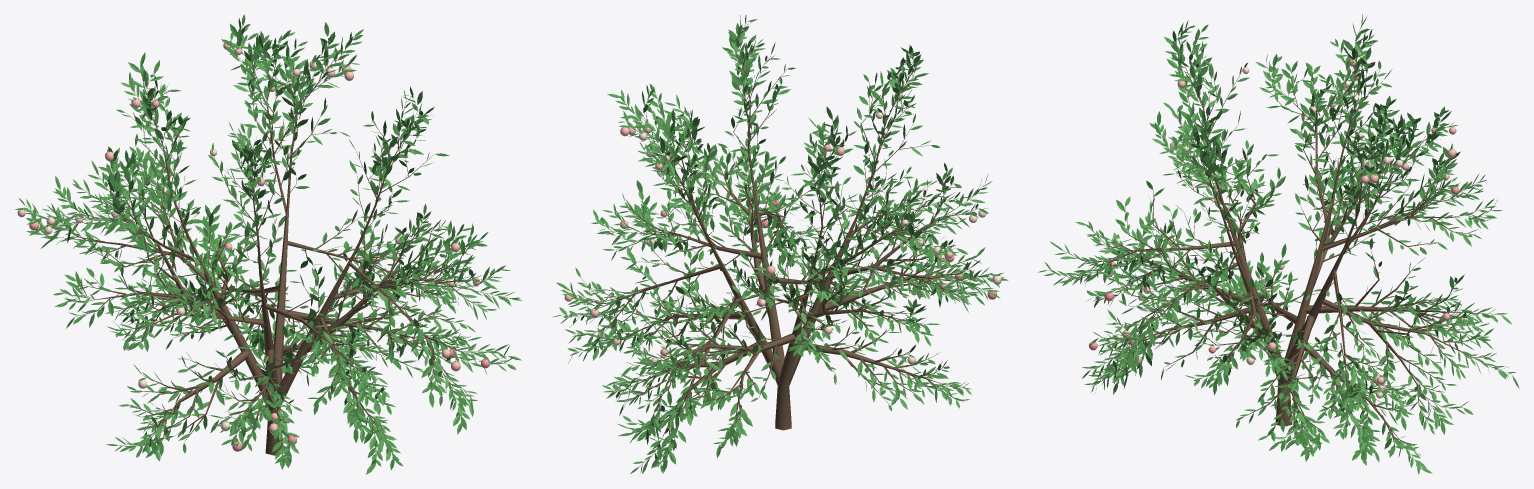
The model's file is pecher_blanche_ete.glb.
3 renders of one model, left to right at view 1: azimuth 30°, elevation 25°; view 2: azimuth 150°, elevation 25°; view 3: azimuth 270°, elevation 25°, orthographic. The views are drawn at different scales.
Parts seen in each view (by area): view 1: Pecher_Feuillage, Pecher_Tronc, Pecher_Peches; view 2: Pecher_Feuillage, Pecher_Tronc, Pecher_Peches; view 3: Pecher_Feuillage, Pecher_Tronc, Pecher_Peches.
Part boxes in pixels (x1,y1,x2,y2): Pecher_Feuillage: (15, 14, 522, 474); Pecher_Tronc: (26, 27, 510, 460); Pecher_Peches: (17, 43, 489, 451); Pecher_Feuillage: (552, 15, 1008, 473); Pecher_Tronc: (564, 22, 992, 465); Pecher_Peches: (564, 93, 1001, 364); Pecher_Feuillage: (1038, 14, 1519, 474); Pecher_Tronc: (1049, 25, 1511, 462); Pecher_Peches: (1089, 50, 1466, 398).
Size of the model in its own units: 5.9 by 5.29 by 6.02.
